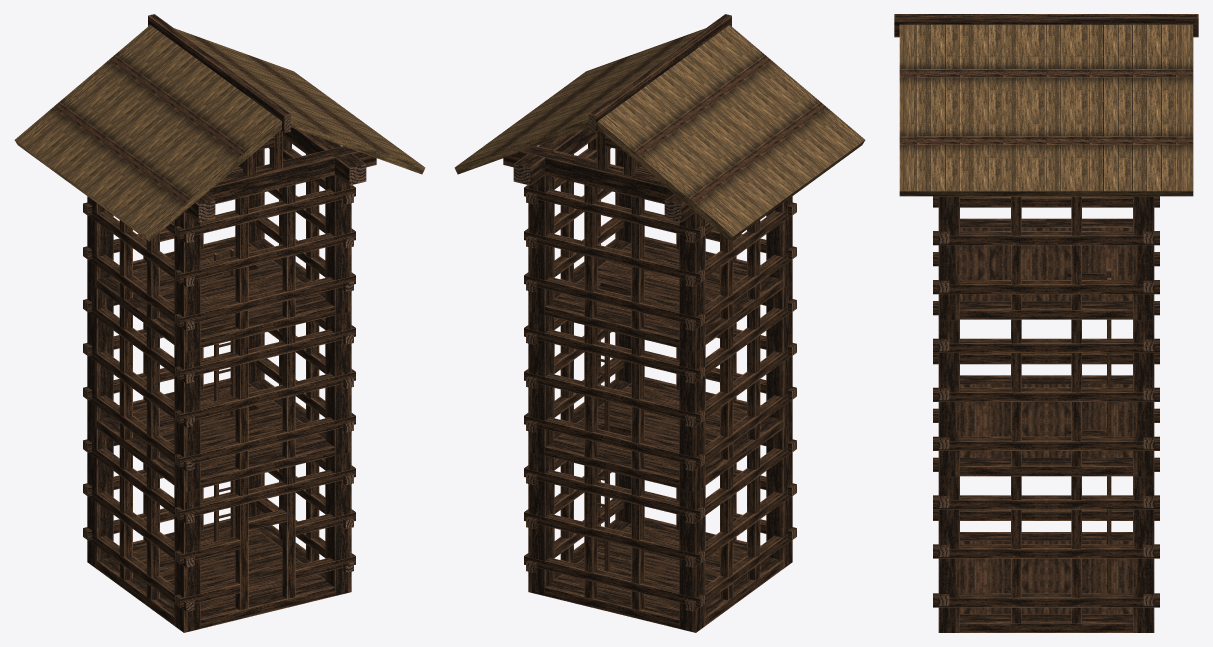
File: watchtower.fbx
3 renders of one model, left to right at view 1: azimuth 30°, elevation 25°; view 2: azimuth 150°, elevation 25°; view 3: azimuth 270°, elevation 25°, orthographic. The views are drawn at different scales.
Parts seen in each view (by area): view 1: watchtower_LOD0; view 2: watchtower_LOD0; view 3: watchtower_LOD0.
Part boxes in pixels (left/top/right/bottom): watchtower_LOD0: left=14, top=14, right=425, bottom=632; watchtower_LOD0: left=454, top=14, right=865, bottom=632; watchtower_LOD0: left=894, top=14, right=1198, bottom=632.
Size of what is drawn, in the model's own units: 833 by 1460 by 705.
